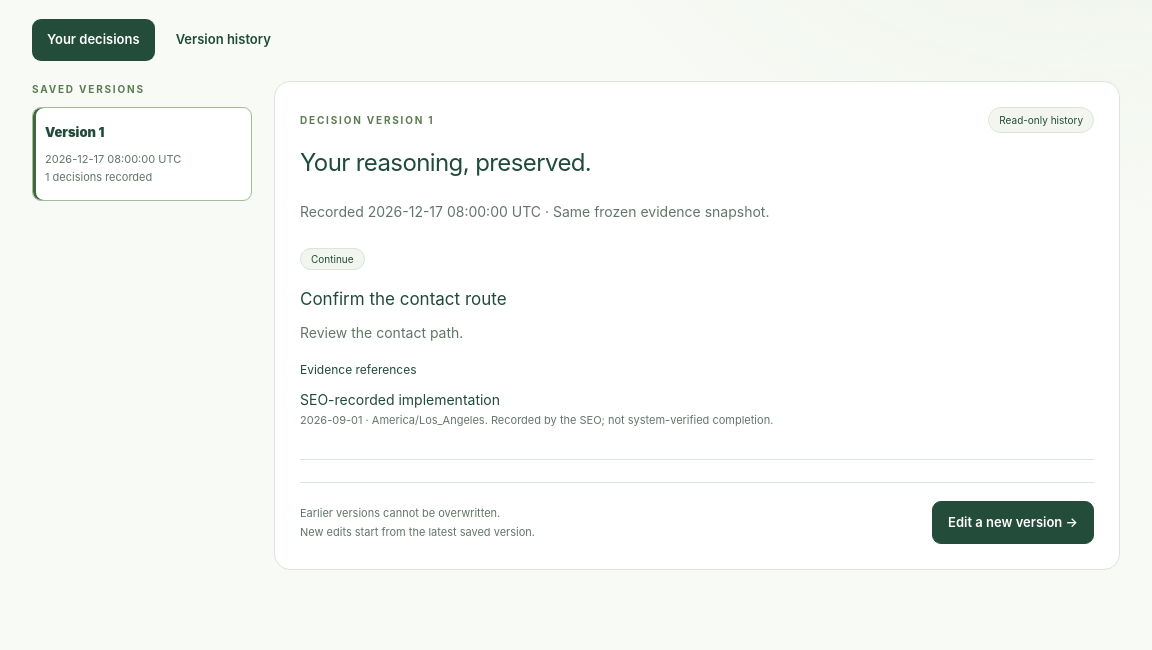
Test: supports clearing a saved decision through a new empty version
(page scrolled)
expect the text "Read-only history" is shown: met, box [988, 107, 1094, 133]
Click the button "Edit a new version →". click: (1013, 522)
box: [932, 501, 1094, 544]
(page scrolled)
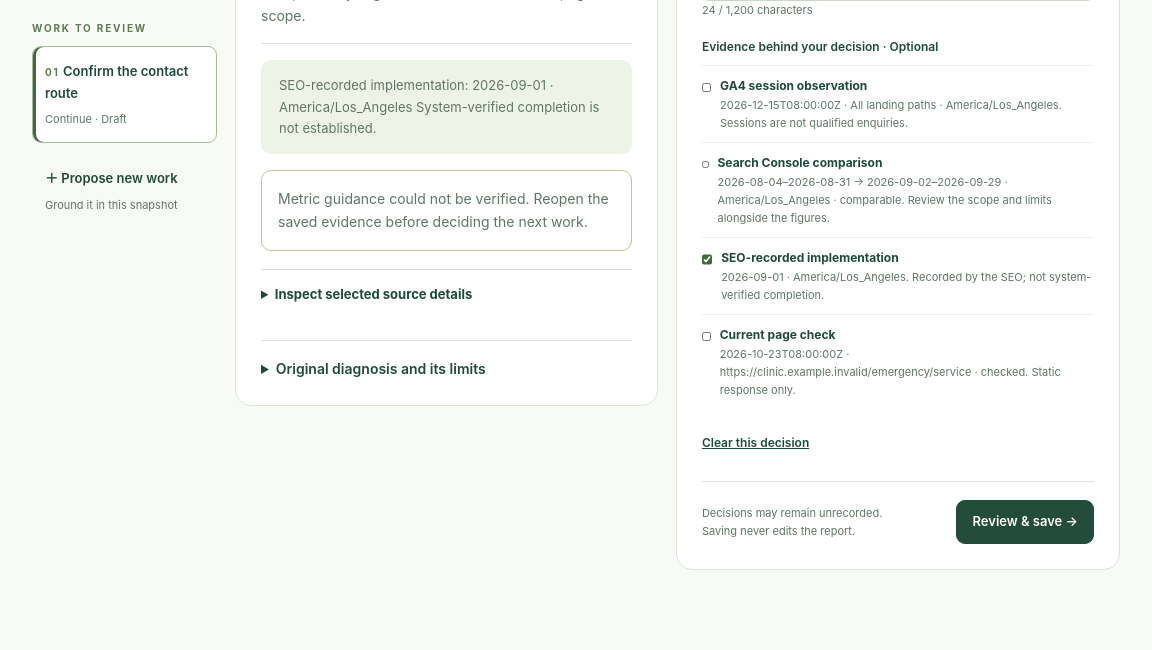
Click the button "Clear this decision". click: (756, 443)
box: [702, 427, 809, 459]
(page scrolled)
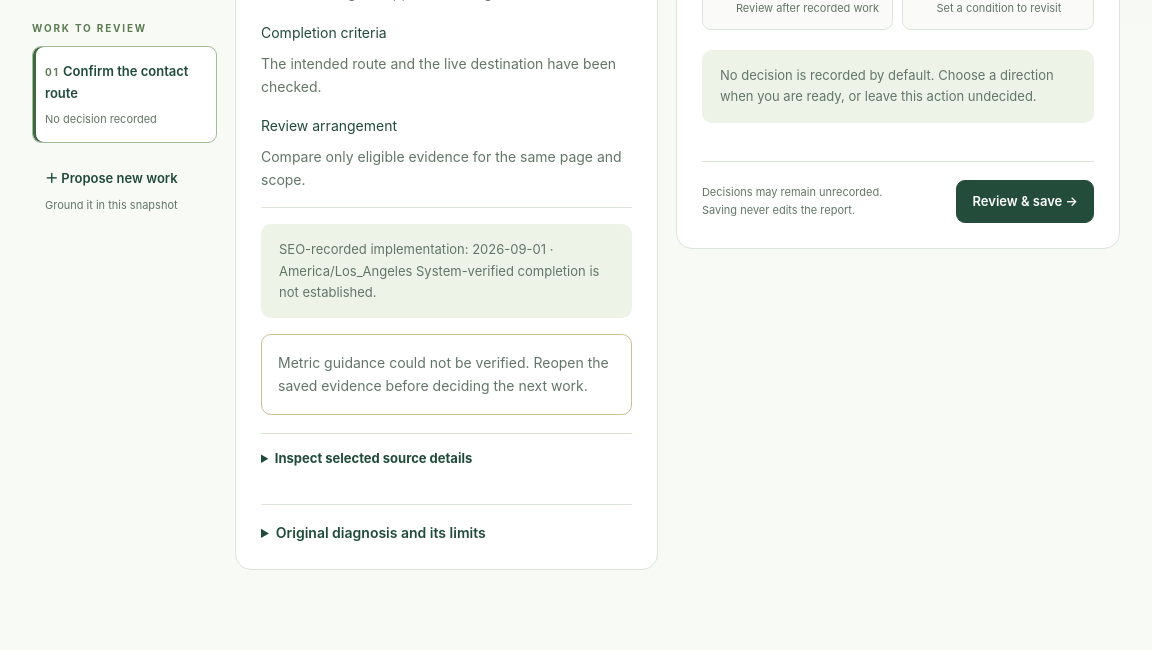
Click the button "Review & save →". click: (1025, 201)
box: [956, 180, 1094, 223]
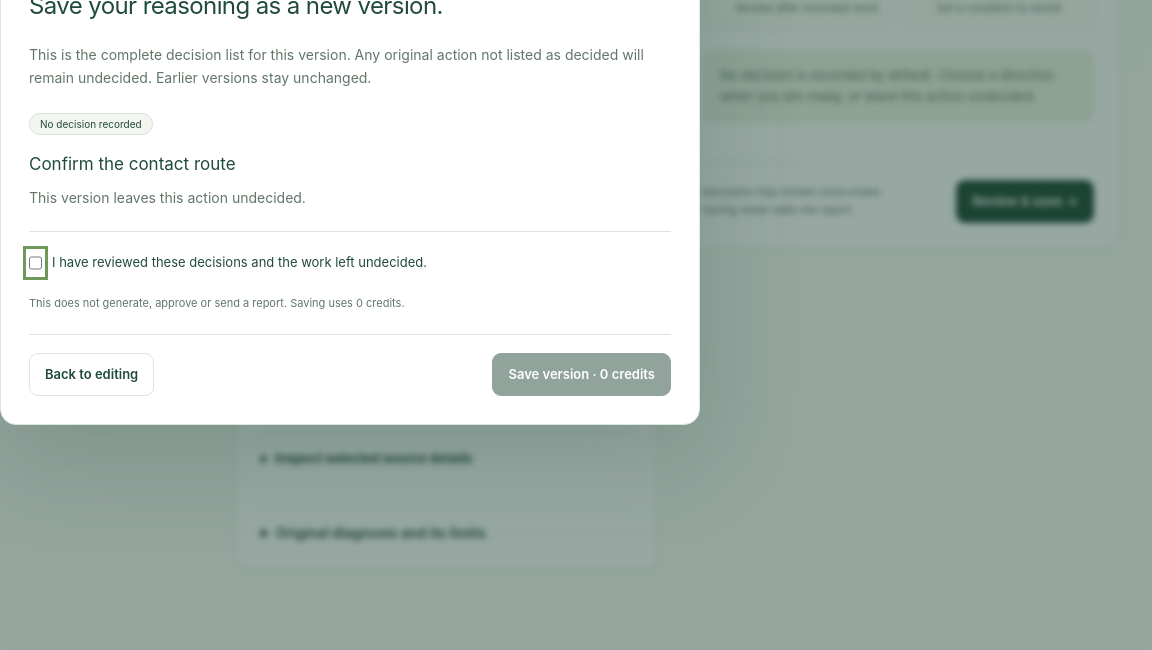
expect the button "Save version · 0 credits" is disabled: met, box [492, 353, 671, 396]
Click the checkbox. click: (36, 263)
box: [29, 252, 42, 274]
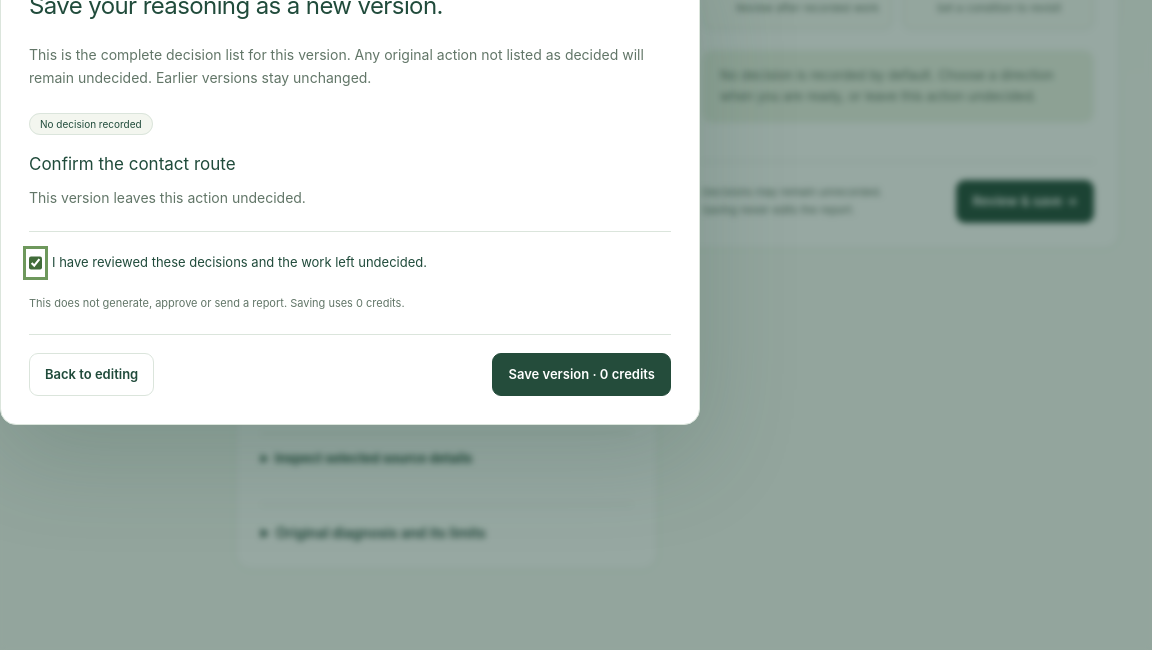
Click the button "Save version · 0 credits". click: (582, 374)
box: [492, 353, 671, 396]
(page scrolled)
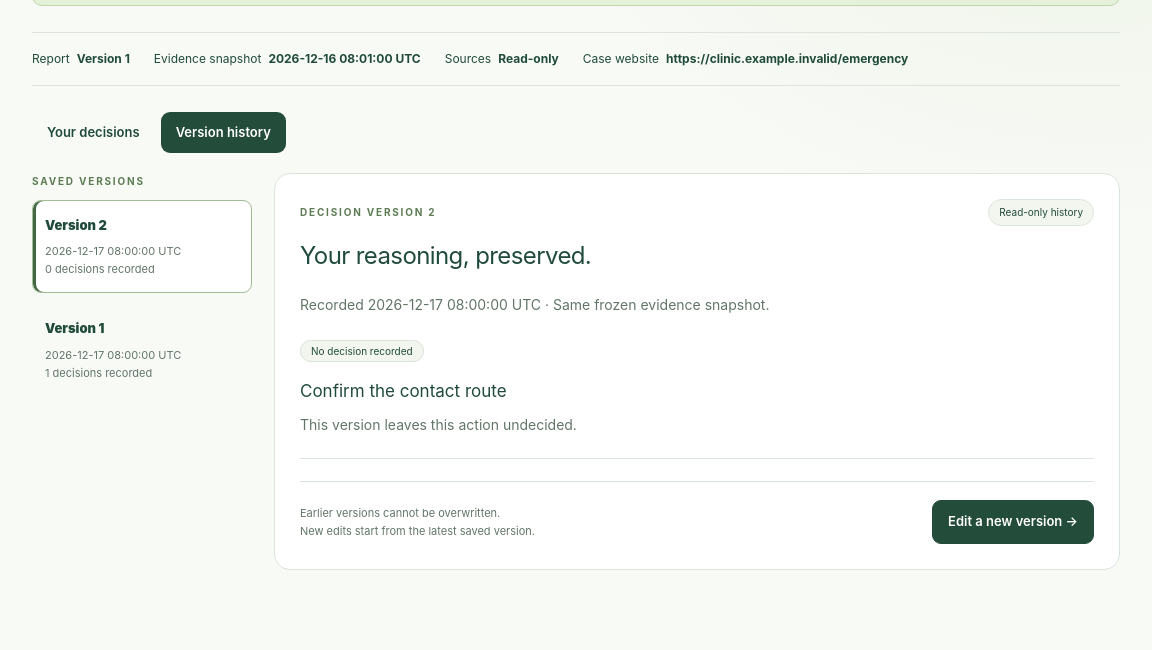
expect the text "Read-only history" is shown: met, box [988, 199, 1094, 226]
